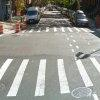Crosswalk: (3, 49, 93, 95)
